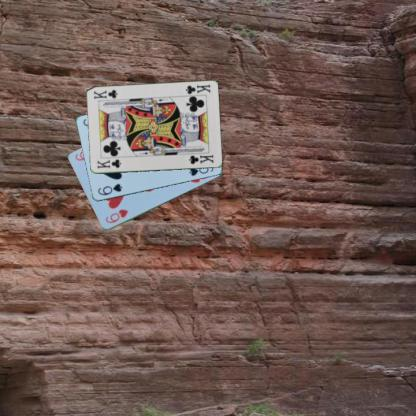6h: (103, 207, 129, 225)
6s: (95, 182, 123, 196)
Kc: (183, 82, 212, 96), (95, 157, 122, 170)
